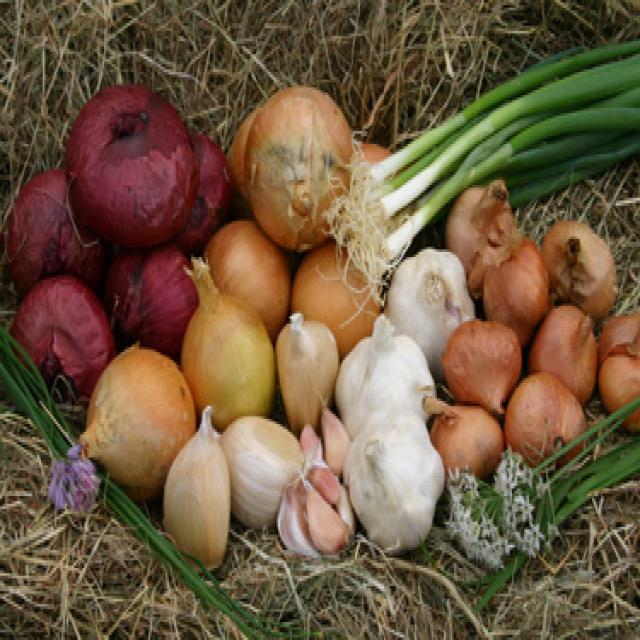onion: (63, 74, 199, 248), (244, 85, 366, 256), (72, 336, 200, 482), (180, 259, 282, 432), (10, 275, 112, 391)
